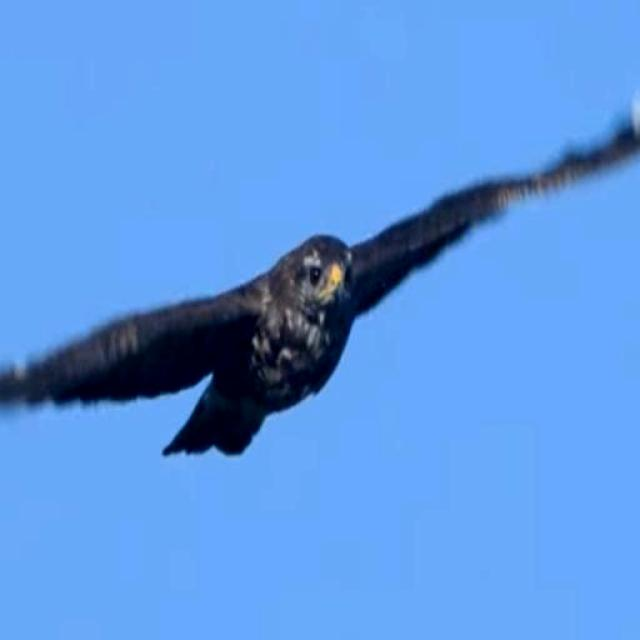airplane: (0, 0, 640, 468)
